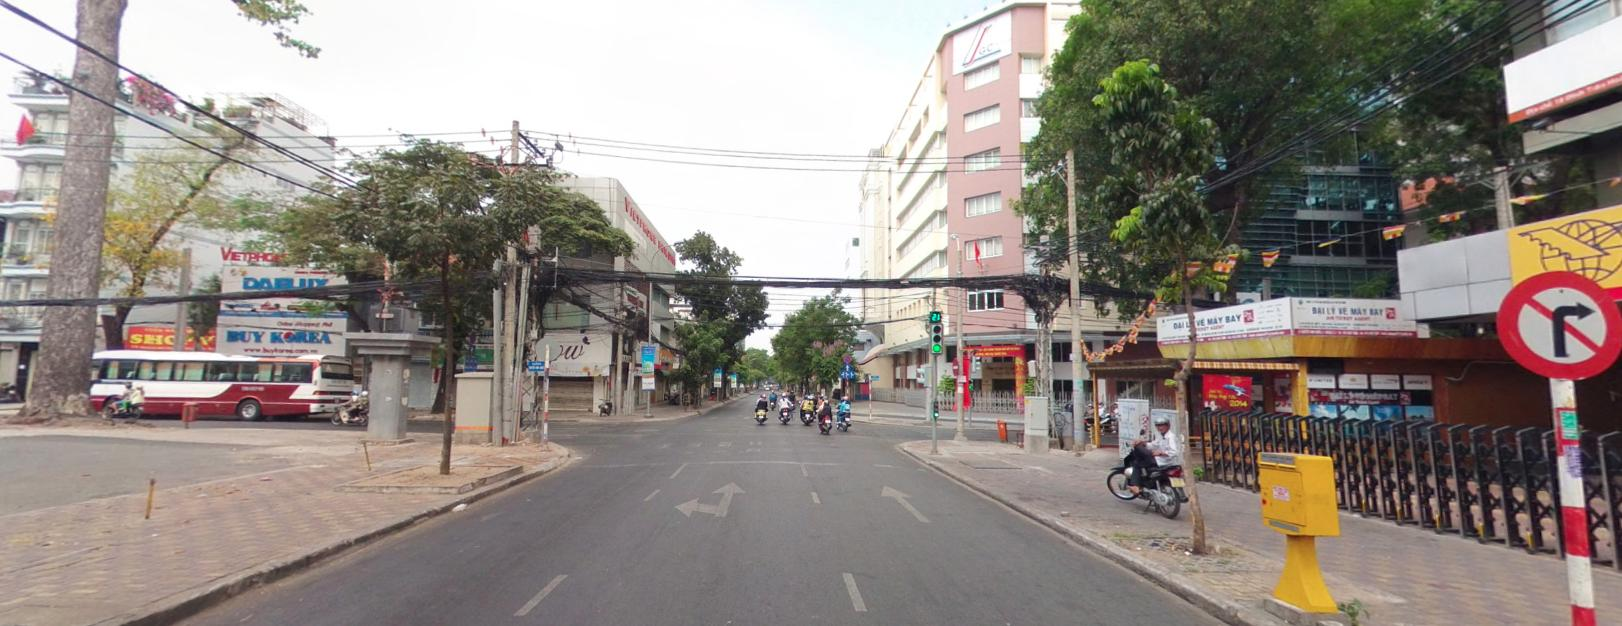Cam dung va do: (842, 353, 850, 361)
Cam nguoc chieu: (952, 356, 959, 374)
Cam re: (1494, 266, 1621, 375)
